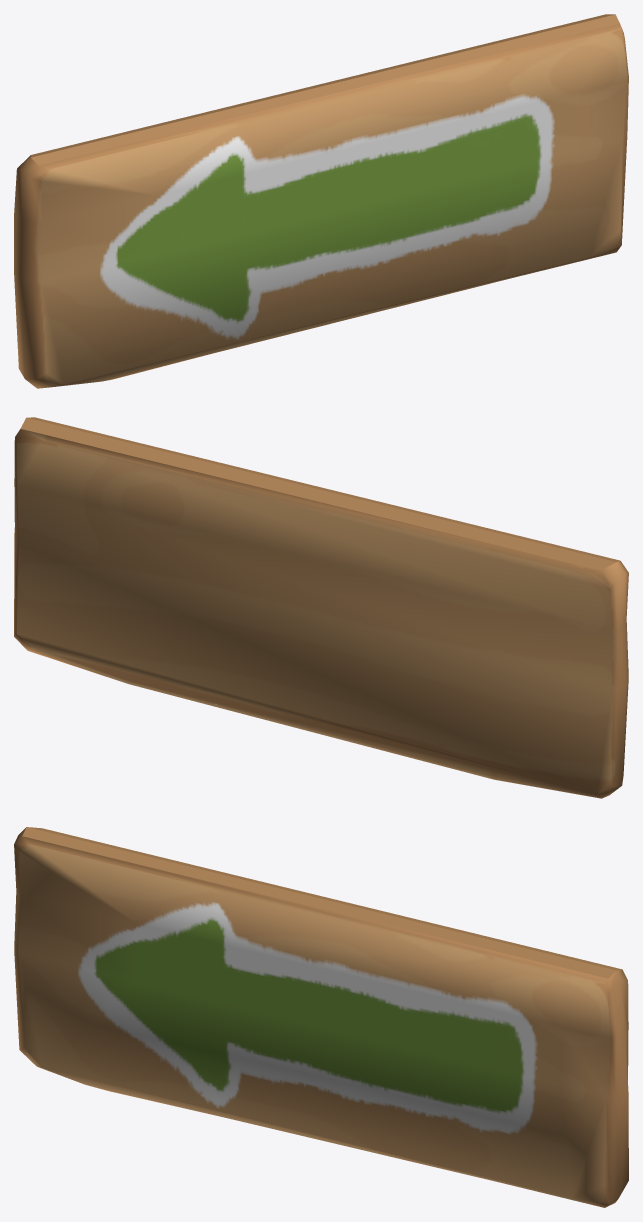
Rendered from ArrowSign00.fbx.
3 renders of one model, top to bottom at view 1: azimuth 30°, elevation 25°; view 2: azimuth 150°, elevation 25°; view 3: azimuth 330°, elevation 25°, orthographic.
Parts seen in each view (by area): view 1: SignPost_Final; view 2: SignPost_Final; view 3: SignPost_Final.
Part boxes in pixels (box(x1,y1,x2,y2)): SignPost_Final: box(14, 14, 628, 388); SignPost_Final: box(14, 417, 628, 798); SignPost_Final: box(14, 827, 628, 1207).
Bounding box in the file's own units: 0.1809 × 0.069 × 0.00947.
